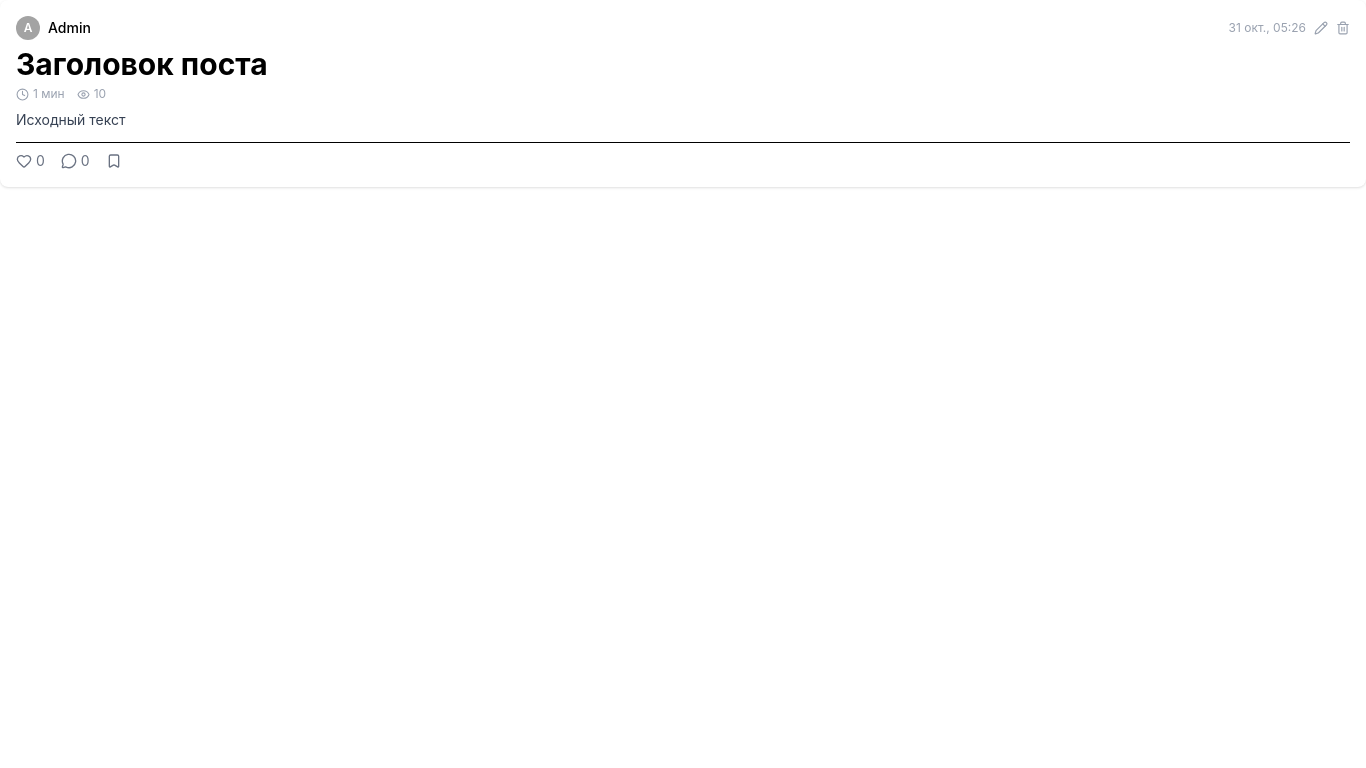
it: PostCard редактирование › переключение на Markdown через модалку настроек показывает textarea с содержимым поста
Click the button with class "lucide-pencil": click(1321, 28) [1314,21,1328,35]
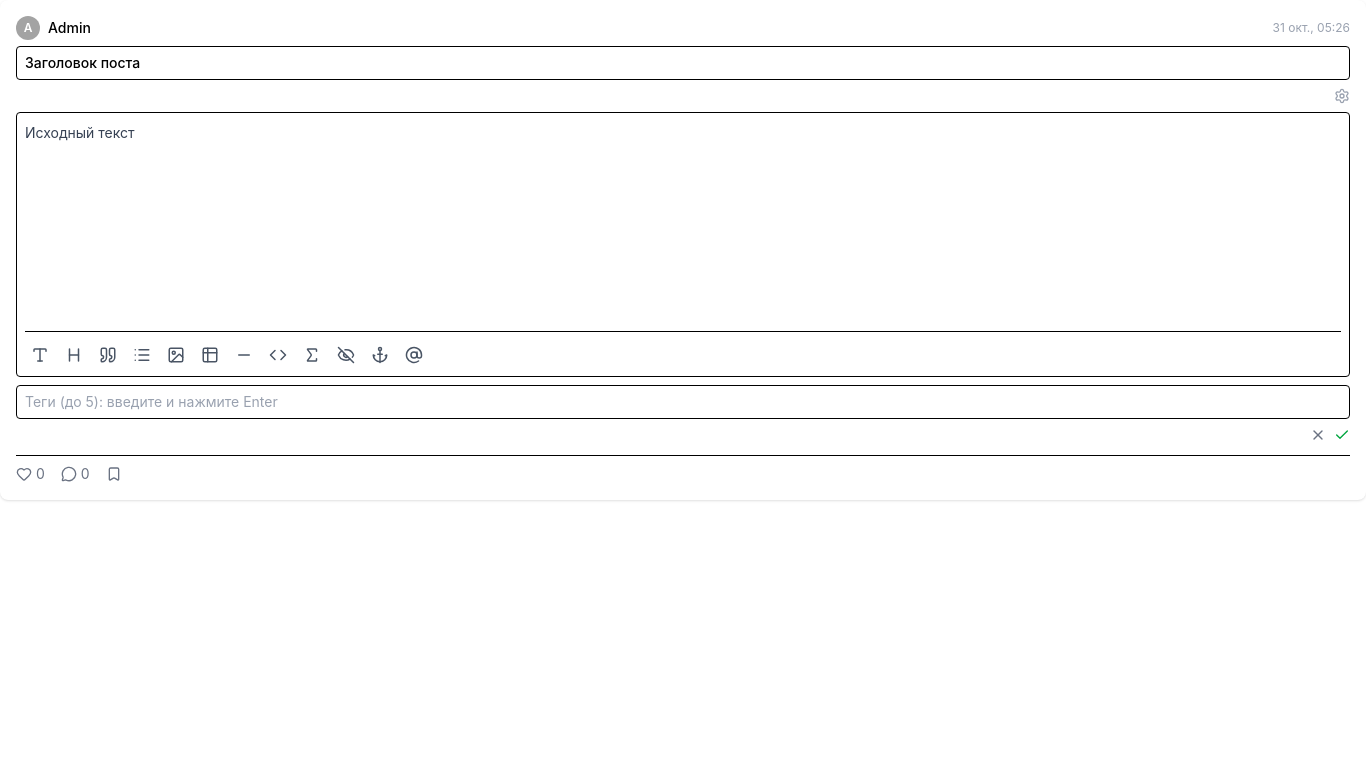
Click the button titled "Настройки редактора": click(1342, 96) [1334,88,1350,104]
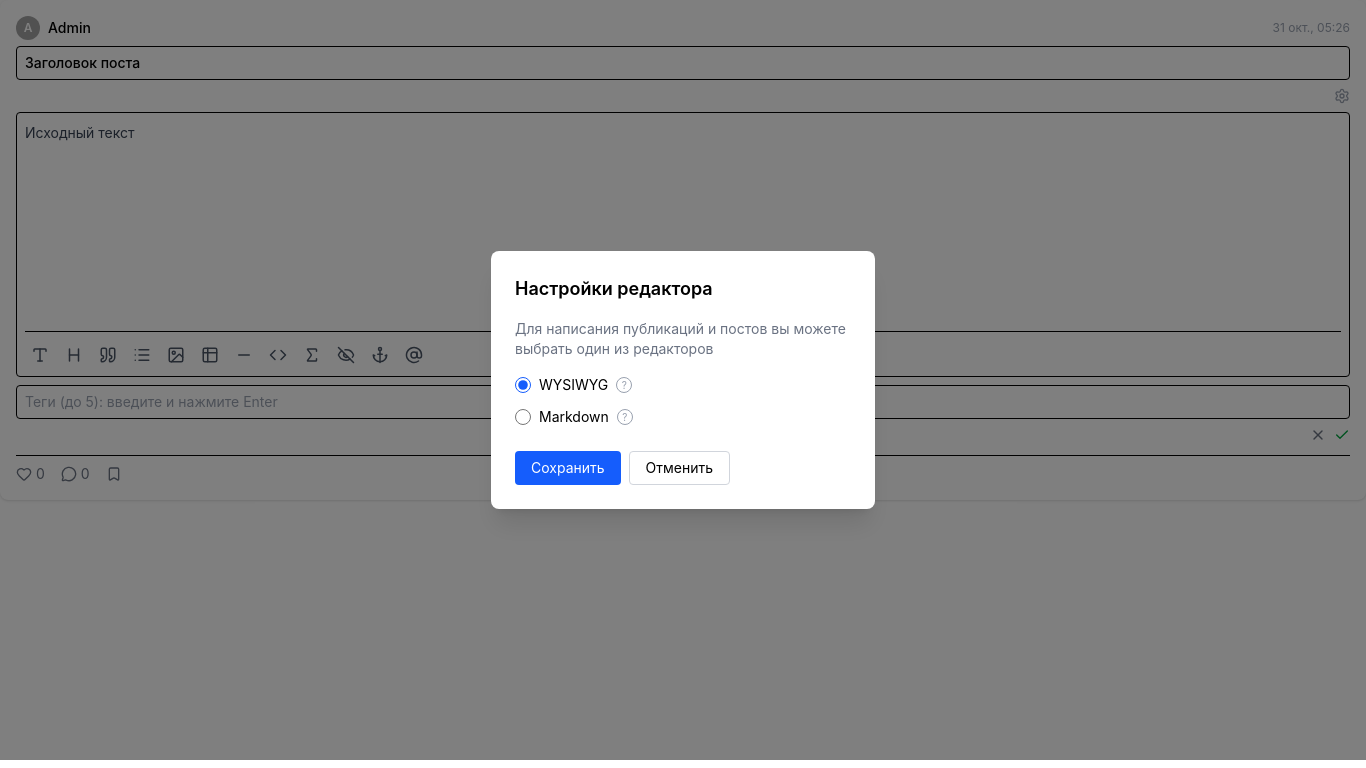
Click the radio button labelled "Markdown ?": click(523, 417) [515,409,531,425]
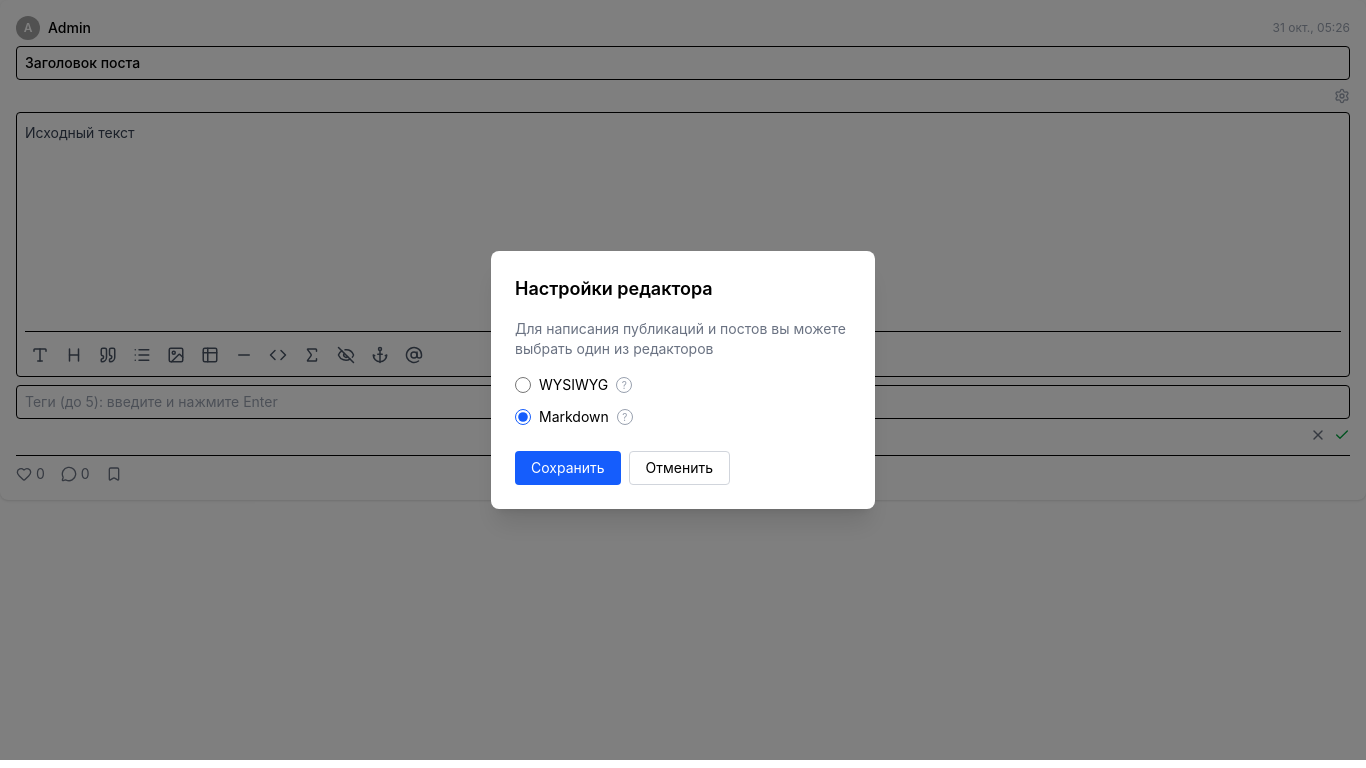
Click the button "Сохранить": click(568, 468) [515,451,621,485]
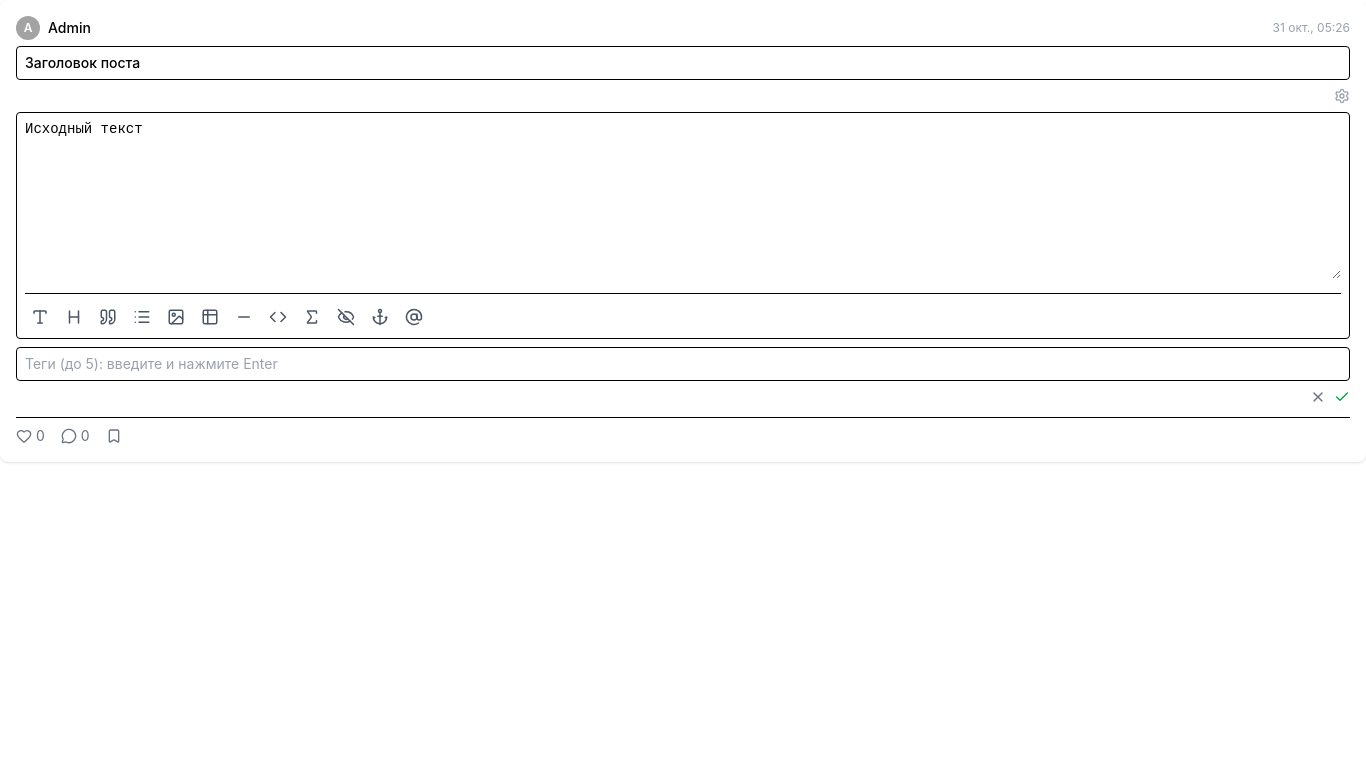
Expected: the text box showing "Исходный текст" is shown, [25,119,1341,279]
